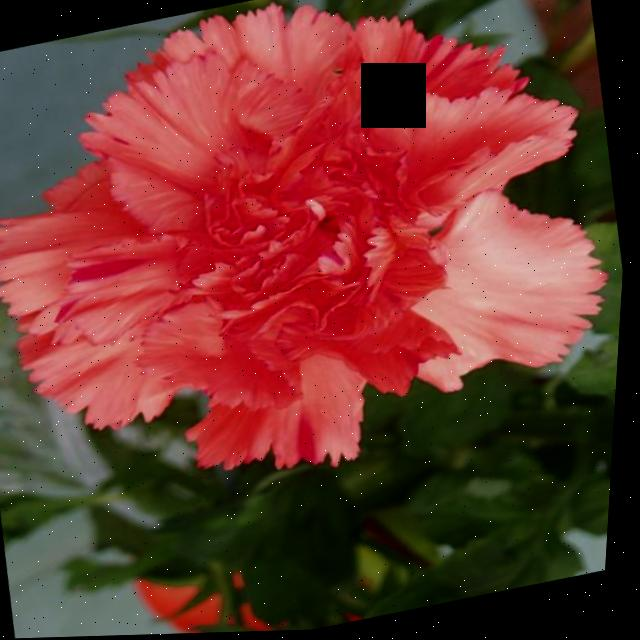carnation: (0, 0, 628, 524)
